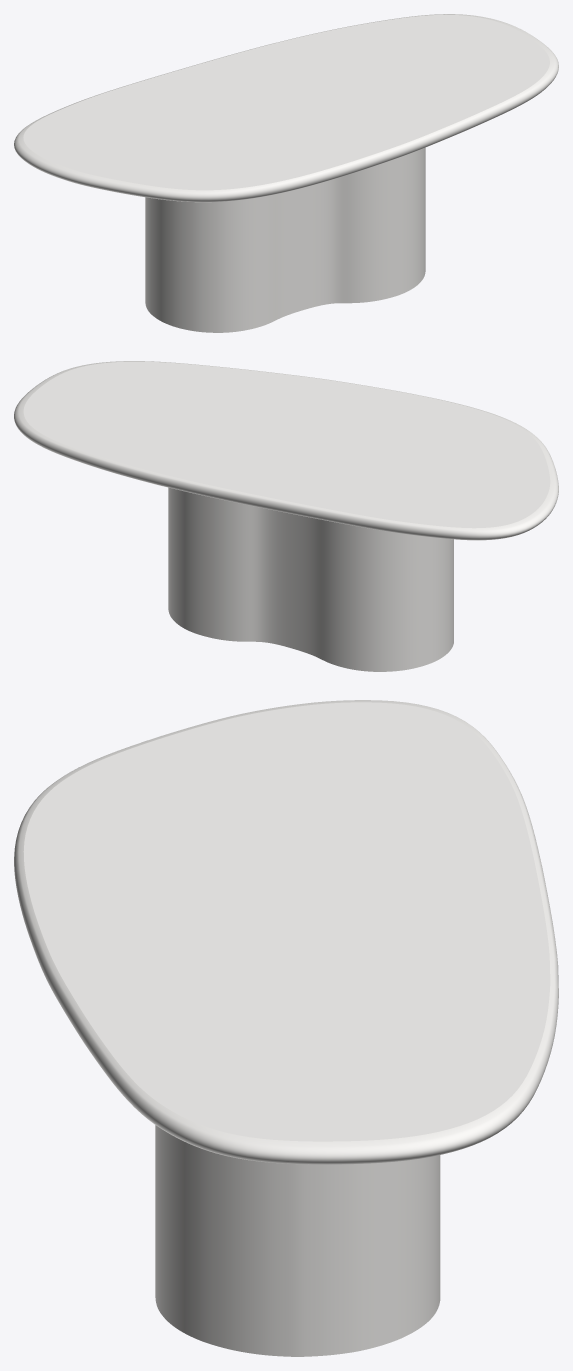
File: purewhite_leaf2_round_riverwave.glb
3 renders of one model, top to bottom at view 1: azimuth 30°, elevation 25°; view 2: azimuth 150°, elevation 25°; view 3: azimuth 270°, elevation 25°, orthographic. The views are drawn at different scales.
Parts seen in each view (by area): view 1: round_leaf2, riverwave; view 2: round_leaf2, riverwave; view 3: round_leaf2, riverwave.
Boxes of the visible parts, x1,y1,x2,y2 form: round_leaf2: (14, 14, 558, 202); riverwave: (145, 147, 425, 332); round_leaf2: (14, 361, 558, 540); riverwave: (168, 487, 453, 671); round_leaf2: (14, 700, 558, 1164); riverwave: (155, 1125, 440, 1356).
Size of the model in its own units: 7.5 by 2.52 by 3.8.
1 material, 1 textured.
